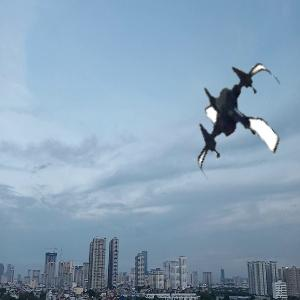drone: (178, 61, 295, 178)
